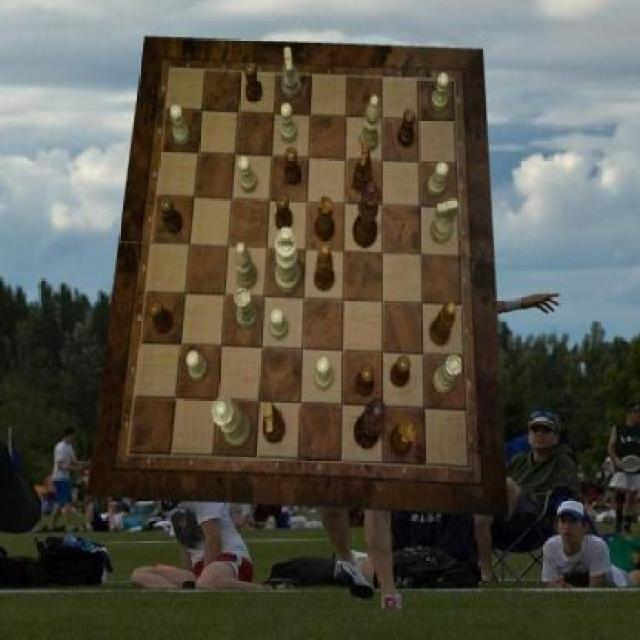bishop: (429, 302, 456, 346), (316, 246, 336, 292)
black-bishop: (354, 398, 387, 451)
black-king: (354, 141, 374, 194), (263, 401, 285, 444)
black-knight: (160, 197, 183, 235), (149, 302, 174, 336), (284, 148, 302, 186), (399, 108, 416, 148), (245, 63, 262, 103), (275, 196, 293, 232), (391, 357, 411, 389), (355, 364, 373, 398)
black-pawn: (354, 180, 381, 248)
black-queen: (316, 195, 336, 241), (391, 422, 415, 458)
black-rook: (360, 95, 380, 153), (236, 243, 256, 291)
white-bishop: (276, 228, 302, 295)
white-king: (430, 200, 458, 244), (282, 48, 300, 100)
white-knight: (171, 105, 191, 146), (238, 156, 258, 192), (186, 351, 209, 382), (428, 162, 448, 196), (280, 104, 297, 144), (431, 74, 448, 114), (315, 357, 333, 391), (270, 307, 288, 338)
white-pawn: (212, 397, 252, 449)
white-queen: (434, 355, 463, 394), (236, 289, 260, 329)
